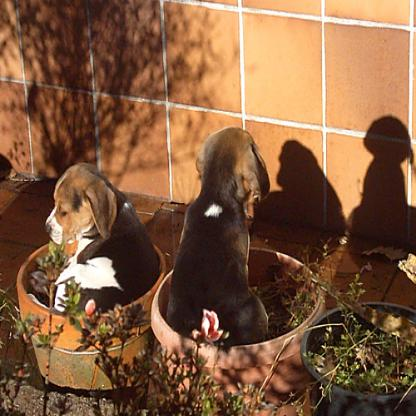dog: (166, 125, 270, 345), (42, 162, 162, 318)
pottedplant: (150, 244, 328, 415), (13, 230, 166, 392), (300, 261, 415, 415)
